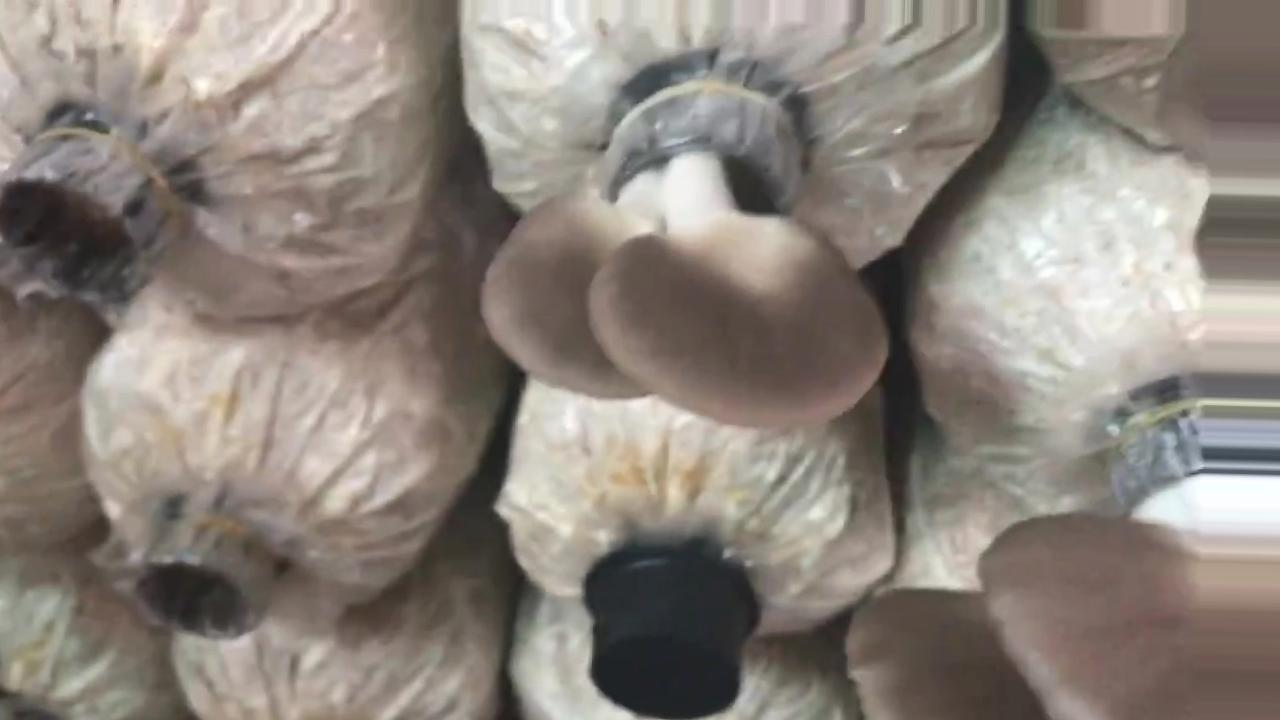nam: (868, 373, 1279, 720), (492, 64, 878, 420)
